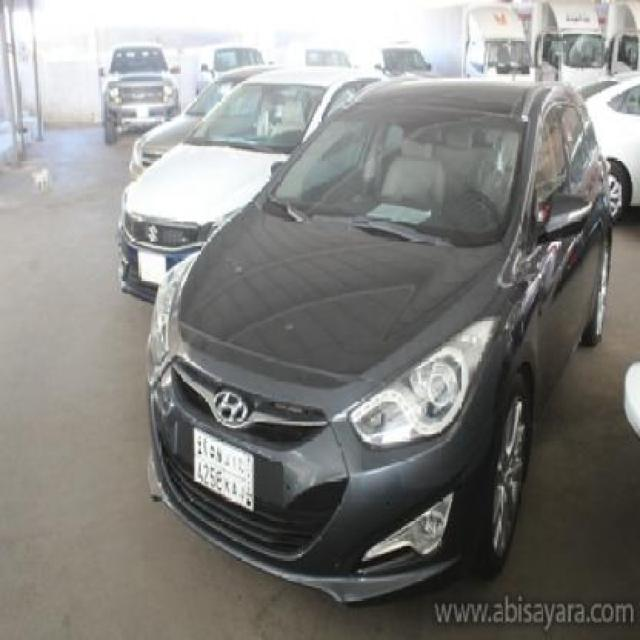license_plate: (192, 424, 256, 514)
